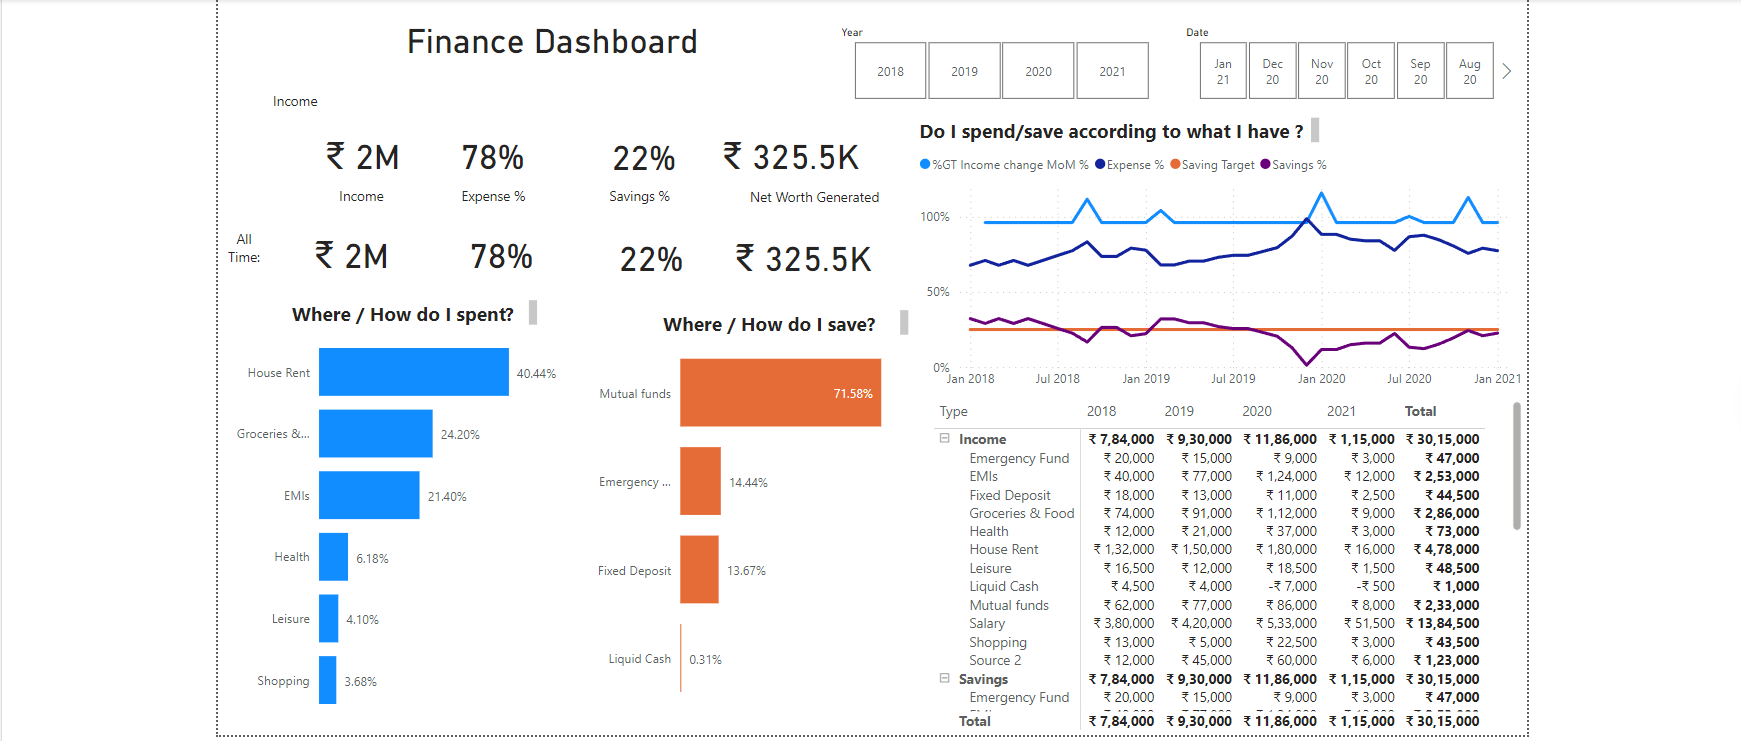

Layout of this report page (visuals, bound fields, positions):
{"tool":"powerbi","page":{"name":"finance ","canvas":[1280,720],"ordinal":0},"visuals":[{"type":"card","fields":{"Values":["Key Measures.Total Income"]},"box":[65,108.7,153.7,85.1],"z":0},{"type":"card","fields":{"Values":["Key Measures.Expense %"]},"box":[192.1,119.4,153.7,63.1],"z":1000},{"type":"card","fields":{"Values":["Key Measures.Savings %"]},"box":[343.6,126.5,146.8,53.5],"z":2000},{"type":"card","fields":{"Values":["Key Measures.Total Savings"]},"box":[482.6,110.6,155.1,83.7],"z":3000},{"type":"textbox","box":[84.3,178.7,115.3,35.7],"z":4000},{"type":"textbox","box":[211.9,178.7,115.3,35.7],"z":5000},{"type":"textbox","box":[354.6,178.7,115.3,35.7],"z":6000},{"type":"textbox","box":[469.8,180,227.8,34.3],"z":7000},{"type":"slicer","fields":{"Values":["FinData.Date"]},"box":[934.5,20.6,337.6,83.7],"z":8000},{"type":"slicer","fields":{"Values":["FinData.Year"]},"box":[596.9,20.6,337.6,83.7],"z":9000},{"type":"card","fields":{"Values":["Key Measures.Total Income"]},"box":[53.6,210.1,153.7,77],"z":10000},{"type":"card","fields":{"Values":["Key Measures.Expense %"]},"box":[200.1,210.2,153.7,76.8],"z":11000},{"type":"card","fields":{"Values":["Key Measures.Savings %"]},"box":[346.7,213,153.7,76.8],"z":12000},{"type":"card","fields":{"Values":["Key Measures.Total Savings"]},"box":[494.7,212.8,155.1,77],"z":13000},{"type":"textbox","box":[-0.5,219.8,50.8,56.3],"z":14000},{"type":"card","fields":{"Values":["Key Measures.title"]},"box":[72.7,0,510.5,76.8],"z":15000},{"type":"clusteredBarChart","fields":{"Category":["FinData.Component"],"Y":["Key Measures.Total Expense"]},"box":[0,304.6,343.1,415.8],"z":15001},{"type":"textbox","box":[19.2,85.1,115.3,35.7],"z":15002},{"type":"textbox","box":[67.2,289.5,249.7,34.3],"z":15003},{"type":"clusteredBarChart","fields":{"Category":["FinData.Component"],"Y":["Key Measures.Total Savings"]},"box":[353.5,303.8,343.1,415.8],"z":15004},{"type":"textbox","box":[430.7,299.1,249.7,34.3],"z":15005},{"type":"lineChart","fields":{"Y":["Key Measures.Income change MoM %","Key Measures.Expense %","Key Measures.Saving Target","Key Measures.Savings %"],"Category":["FinData.Date"]},"box":[680.6,141.3,599.7,248.4],"z":15006},{"type":"textbox","box":[680.6,111.1,400.7,34.3],"z":15007},{"type":"pivotTable","fields":{"Rows":["Type.Type","FinData.Component"],"Columns":["FinData.Year","FinData.Date"],"Values":["Key Measures.value"]},"box":[696,389,584,331],"z":15008}]}

Visuals, with their boxes on the page's 1280x720 design canvas (x1, y1, x2, y2). These are canvas units, not pixel positions in the 1741x741 screenshot, which may show the page scaled, cropped or inside an application window:
card - Key Measures.Total Income: {"x1": 65, "y1": 109, "x2": 219, "y2": 194}
card - Key Measures.Expense %: {"x1": 192, "y1": 119, "x2": 346, "y2": 182}
card - Key Measures.Savings %: {"x1": 344, "y1": 126, "x2": 490, "y2": 180}
card - Key Measures.Total Savings: {"x1": 483, "y1": 111, "x2": 638, "y2": 194}
textbox: {"x1": 84, "y1": 179, "x2": 200, "y2": 214}
textbox: {"x1": 212, "y1": 179, "x2": 327, "y2": 214}
textbox: {"x1": 355, "y1": 179, "x2": 470, "y2": 214}
textbox: {"x1": 470, "y1": 180, "x2": 698, "y2": 214}
slicer - FinData.Date: {"x1": 934, "y1": 21, "x2": 1272, "y2": 104}
slicer - FinData.Year: {"x1": 597, "y1": 21, "x2": 934, "y2": 104}
card - Key Measures.Total Income: {"x1": 54, "y1": 210, "x2": 207, "y2": 287}
card - Key Measures.Expense %: {"x1": 200, "y1": 210, "x2": 354, "y2": 287}
card - Key Measures.Savings %: {"x1": 347, "y1": 213, "x2": 500, "y2": 290}
card - Key Measures.Total Savings: {"x1": 495, "y1": 213, "x2": 650, "y2": 290}
textbox: {"x1": 0, "y1": 220, "x2": 50, "y2": 276}
card - Key Measures.title: {"x1": 73, "y1": 0, "x2": 583, "y2": 77}
clusteredBarChart - FinData.Component x Key Measures.Total Expense: {"x1": 0, "y1": 305, "x2": 343, "y2": 720}
textbox: {"x1": 19, "y1": 85, "x2": 134, "y2": 121}
textbox: {"x1": 67, "y1": 290, "x2": 317, "y2": 324}
clusteredBarChart - FinData.Component x Key Measures.Total Savings: {"x1": 354, "y1": 304, "x2": 697, "y2": 720}
textbox: {"x1": 431, "y1": 299, "x2": 680, "y2": 333}
lineChart - Key Measures.Income change MoM % x Key Measures.Expense %: {"x1": 681, "y1": 141, "x2": 1280, "y2": 390}
textbox: {"x1": 681, "y1": 111, "x2": 1081, "y2": 145}
pivotTable - Type.Type x FinData.Component: {"x1": 696, "y1": 389, "x2": 1280, "y2": 720}
